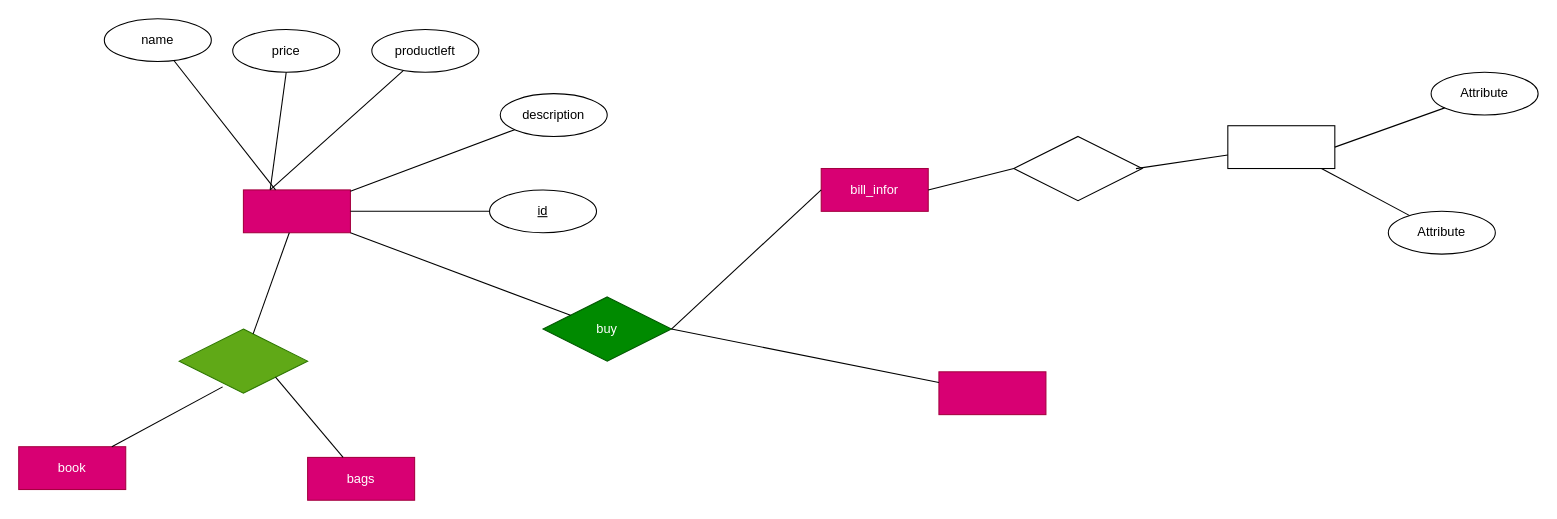
Image size: 1557x519. Some labels were removed from this diagram. The centre of each missing label's shape, as x and y in pixels:
"Customer" goes at (x=992, y=393).
"have" goes at (x=243, y=360).
"infor" goes at (x=1281, y=147).
"products" goes at (x=296, y=211).
"save" goes at (x=1077, y=168).
